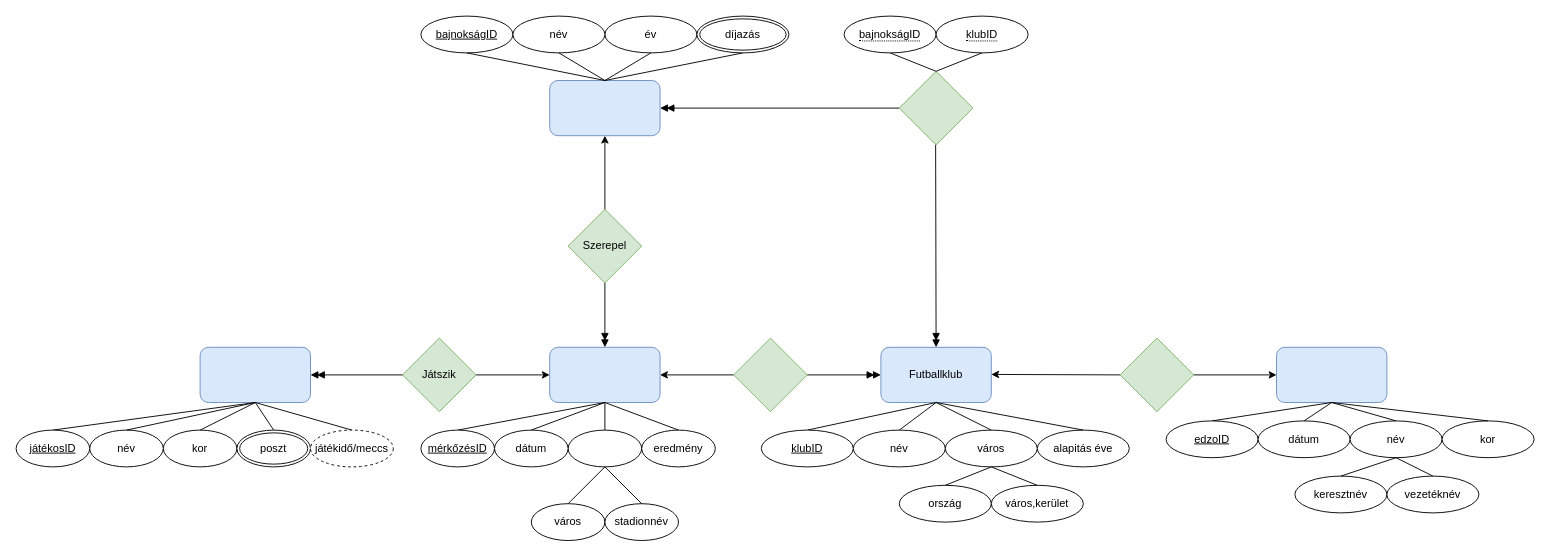
Some shapes in this 1550 by 557 pixel diagram are drawn without their labels. Here are the shapes that lost their labels. From the top down, the box of each, then its label:
(549, 80, 660, 136): Bajnokság
(898, 70, 973, 145): Részvétel
(199, 346, 310, 402): Játékos
(549, 346, 660, 402): Mérkőzés
(733, 337, 807, 412): Tartozik
(1119, 337, 1194, 412): Dolgozik
(1276, 346, 1387, 402): Edző
(567, 429, 642, 467): helyszin
